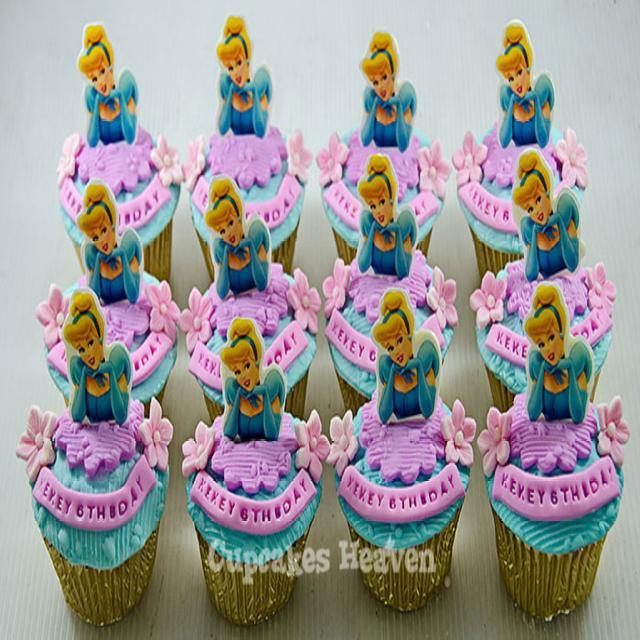Muffin: (16, 12, 626, 628)
